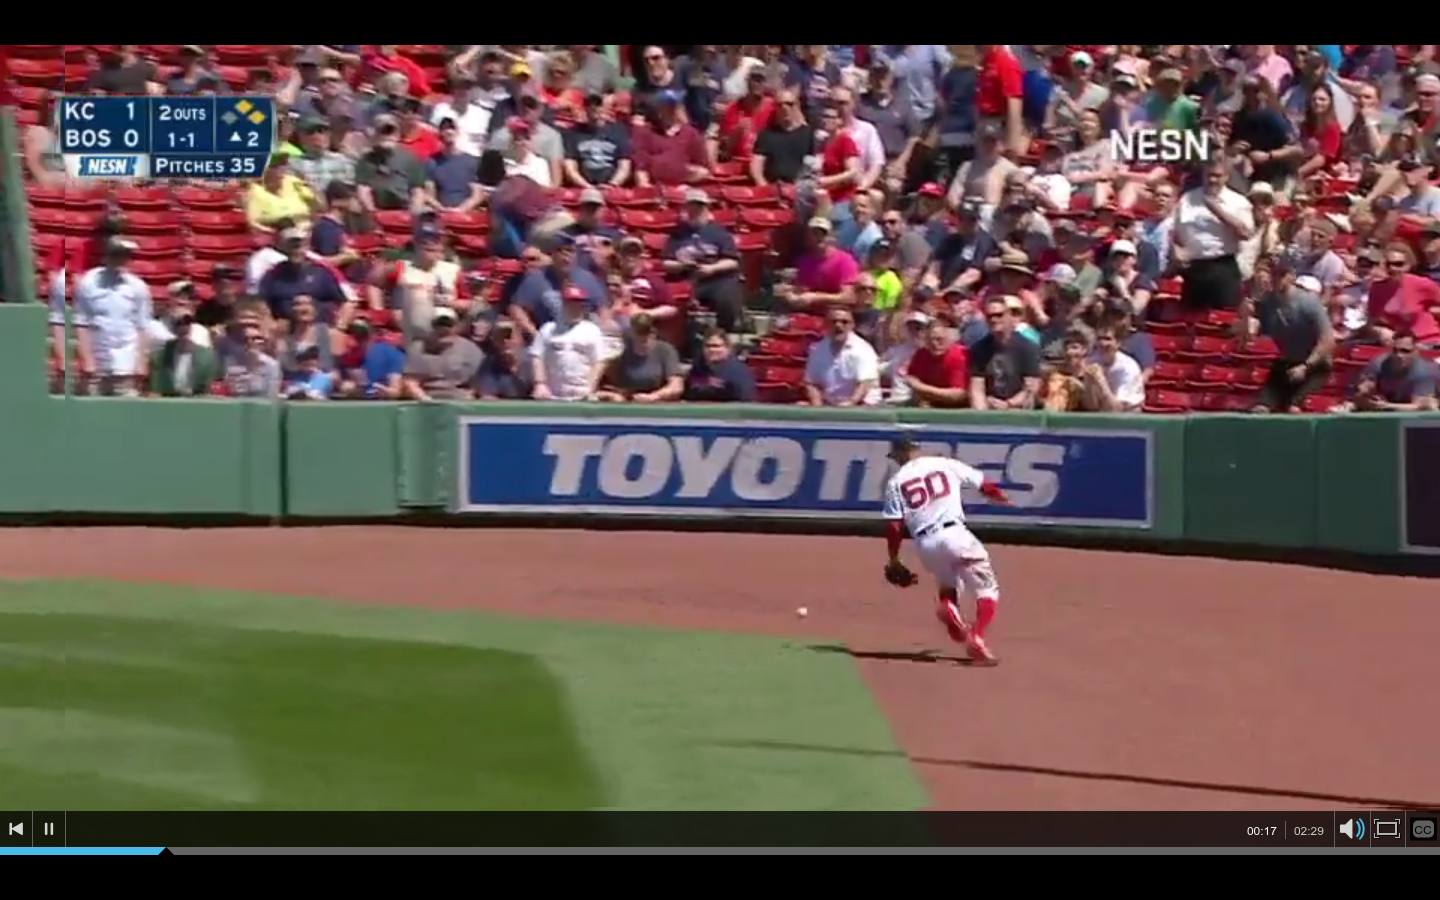baseball: (793, 602, 812, 620)
baseball player: (867, 436, 1022, 669)
